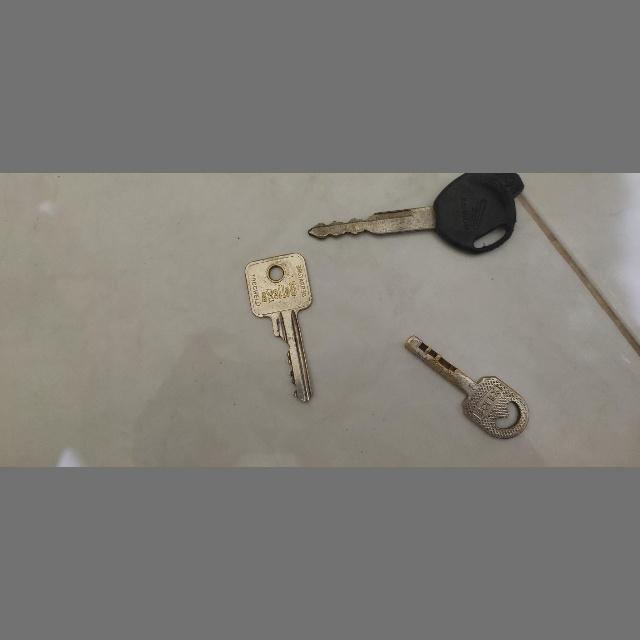Keys: (308, 173, 528, 259), (400, 329, 532, 448), (242, 247, 318, 408)
